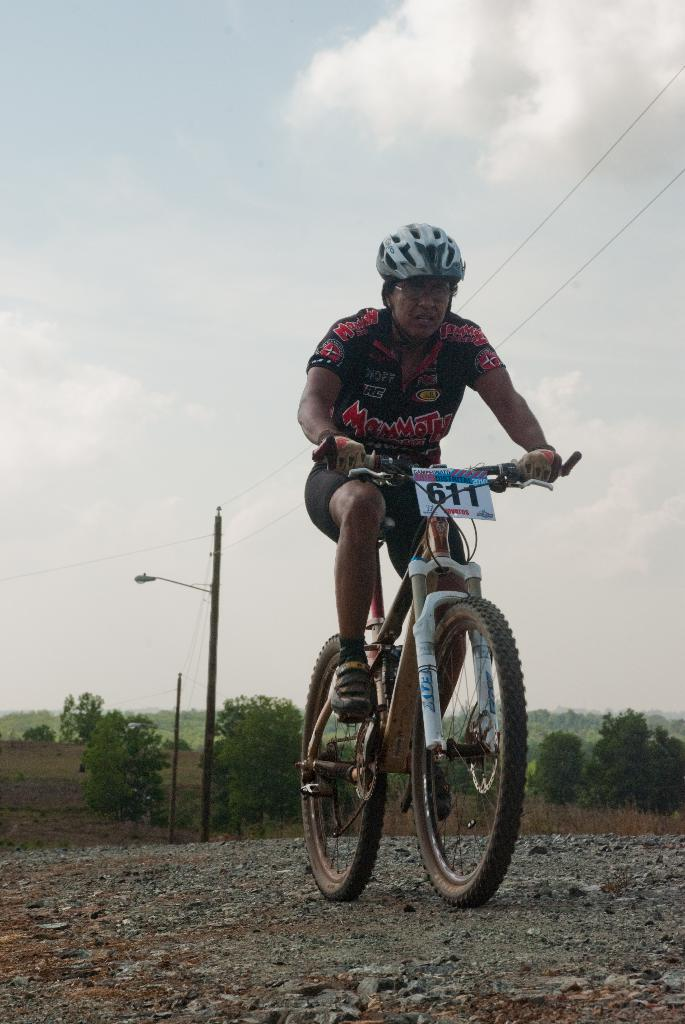Bike_toward: (295, 444, 584, 903)
